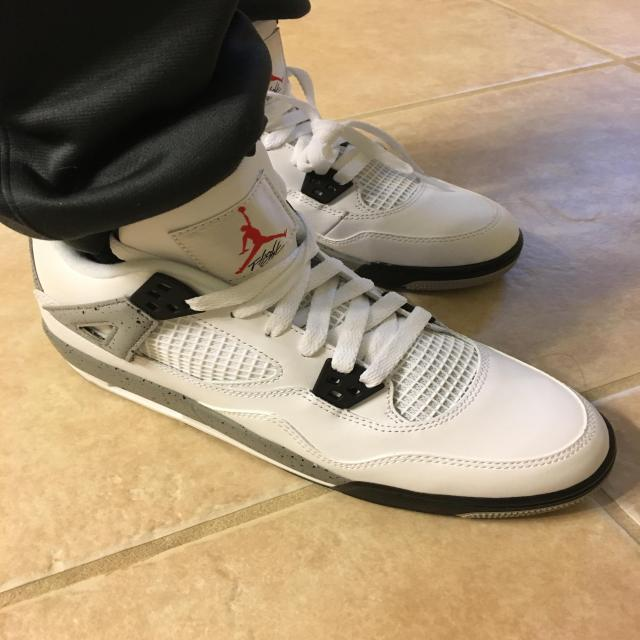shoe: (24, 142, 636, 542), (165, 56, 564, 306)
